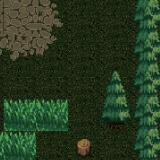Obstacle: (132, 0, 160, 160), (97, 100, 132, 132), (69, 130, 101, 160)
Slow: (3, 100, 69, 131), (0, 131, 36, 160)
